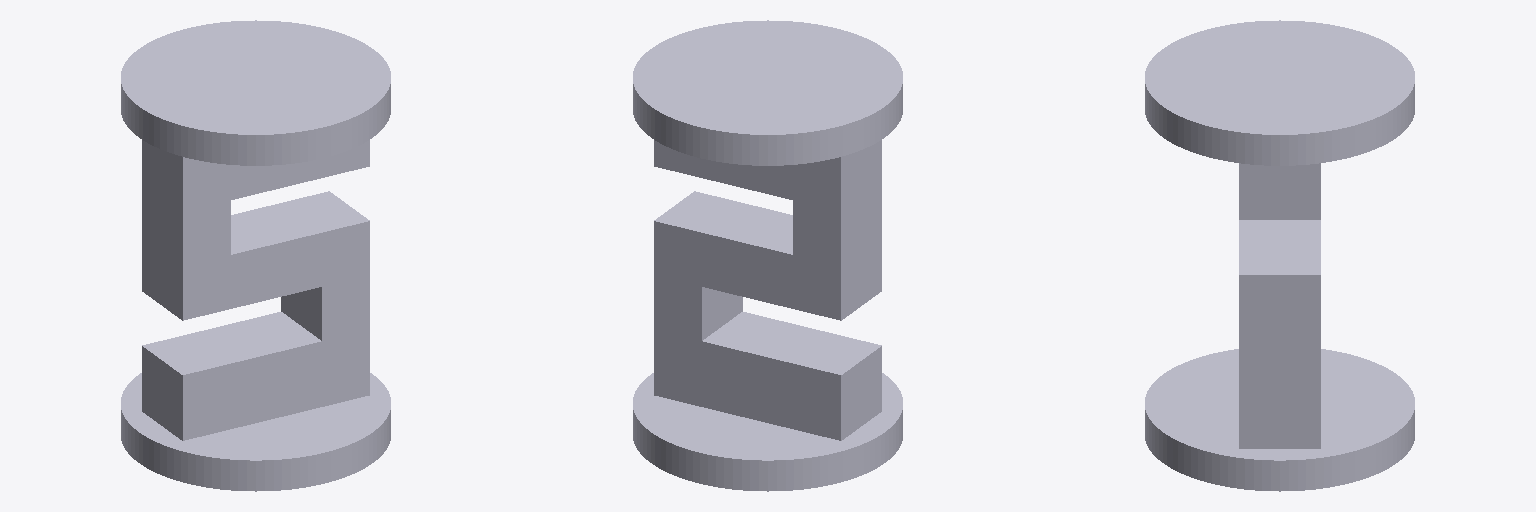
URDF robot description (touch_tool_tcp):
<?xml version="1.0"?>
<!--
  touch_tool_square_20x20.urdf
  TCP de palpação quadrado 20×20 mm para o Touch Pack (Gazebo Classic).

  Geometria da malha (STL, unidade original: mm):
    X: ±45 mm  (largura 90 mm — base de montagem)
    Y: ±45 mm  (profundidade 90 mm)
    Z: -6.5 mm … +108 mm  (comprimento total ≈ 114.5 mm)

  Cadeia de links:
    Link6 → force_sensor_link (Célula de carga 100 kg montada) → touch_tool_link → tcp_link

  Convenção de frames:
    • force_sensor_link / origem: centro do acoplador-robô, assenta plano no
      flange (Link6). Montagem AXIAL da célula CSA/ZL tipo S de 100 kg
      (CelulaDeCarga_100kg_Montagem, gerada por scripts/): acoplador ⌀63,5×8 mm
      + célula S 50,8×19,1×76,2 mm + acoplador ⌀63,5×8 mm — os recuos dos
      acopladores encaixam as faces da célula e alojam o parafuso M12 (sem
      rosca exposta); pilha coaxial a +Z, topo em Z=+92,2 mm.
    • touch_tool_link / origem: topo do acoplador-tool (0, 0, +92,2 mm no frame
      do flange), alinhado ao Link6. O fundo do STL (Z = -6.5 mm na malha) é
      alinhado com +0.0065 m.
    • tcp_link: face de contato quadrada 20×20 mm (ponta do probe), +114.5 mm acima
      da base do tool → TCP em (0, 0, +206,7 mm) no frame do flange (Link6).

  Uso standalone (Gazebo):
    Altere o parent do joint "touch_tool_attach" de "Link6" para "world",
    remova o joint "world_to_base" abaixo e spawn via spawn_entity.py.

  Integração no launch (típico):
    Injete o conteúdo entre <robot>…</robot> no URDF combinado do CR10,
    após a definição de Link6, e remova o bloco <robot name="standalone"> deste
    arquivo (use apenas o corpo interno como fragmento xacro/snippet).
-->
<robot name="touch_tool_tcp">

  <!-- ══════════════════════════════════════════════════════════════════
       ROOT (modo standalone): liga a ferramenta ao world para teste.
       Na integração com o CR10 este bloco é substituído por Link6
       como parent direto do joint "touch_tool_attach".
  ══════════════════════════════════════════════════════════════════ -->
  <link name="world"/>

  <joint name="world_to_base" type="fixed">
    <parent link="world"/>
    <child link="Link6"/>
    <origin xyz="0 0 0" rpy="0 0 0"/>
  </joint>

  <!-- Placeholder Link6 (robô real — substituído pelo CR10 na integração). -->
  <link name="Link6">
    <inertial>
      <mass value="0.001"/>
      <inertia ixx="1e-9" ixy="0.0" ixz="0.0"
               iyy="1e-9" iyz="0.0" izz="1e-9"/>
    </inertial>
  </link>

  <!-- ══════════════════════════════════════════════════════════════════
       CÉLULA DE CARGA 100 kg MONTADA (Link6 → touch_tool)
       Montagem única (CelulaDeCarga_100kg_Montagem.stl, gerada por
       scripts/gen_loadcell_100kg_assembly_stl.py): acoplador-robô + célula
       CSA/ZL tipo S + acoplador-tool, pilha AXIAL (faces da célula encaixadas
       nos recuos dos acopladores, parafuso M12 oculto).
       Mesh (mm): origem no centro do acoplador-robô, face inferior em Z=0,
       coaxial a +Z, topo do acoplador-tool em Z=+92,2.
  ══════════════════════════════════════════════════════════════════ -->
  <link name="force_sensor_link">
    <inertial>
      <origin xyz="0 0 0.046" rpy="0 0 0"/>
      <mass value="0.800"/>
      <inertia ixx="6.9e-4" ixy="0.0" ixz="0.0"
               iyy="8.4e-4" iyz="0.0"
               izz="2.0e-4"/>
    </inertial>
    <visual>
      <origin xyz="0 0 0" rpy="0 0 0"/>
      <geometry>
        <mesh filename="package://touch_pack/meshes/CelulaDeCarga_100kg_Montagem.stl"
              scale="0.001 0.001 0.001"/>
      </geometry>
      <material name="silver">
        <color rgba="0.82 0.82 0.88 1.0"/>
      </material>
    </visual>
    <collision name="col_robot_plate">
      <origin xyz="0 0 0.004" rpy="0 0 0"/>
      <geometry>
        <cylinder radius="0.03175" length="0.008"/>
      </geometry>
    </collision>
    <collision name="col_loadcell_s">
      <origin xyz="0 0 0.0461" rpy="0 0 0"/>
      <geometry>
        <box size="0.0508 0.0191 0.0762"/>
      </geometry>
    </collision>
    <collision name="col_tool_plate">
      <origin xyz="0 0 0.0882" rpy="0 0 0"/>
      <geometry>
        <cylinder radius="0.03175" length="0.008"/>
      </geometry>
    </collision>
  </link>

  <!-- ══════════════════════════════════════════════════════════════════
       CORPO PRINCIPAL DO TCP
  ══════════════════════════════════════════════════════════════════ -->
  <link name="touch_tool_link">

    <!--
      Inércia estimada: alumínio 6061, ≈ 150 g, corpo aproximado como
      caixa uniforme 90×90×114.5 mm:
        Ixx = Iyy = (1/12)·m·(w² + h²) = (1/12)·0.15·(0.009+0.0131) ≈ 2.65e-4 kg·m²
        Izz        = (1/12)·m·(w² + w²) = (1/12)·0.15·0.0162         ≈ 2.03e-4 kg·m²
      CoM no centro geométrico: Z_cm ≈ (6.5 + 114.5/2) mm = 63.75 mm → 0.064 m
    -->
    <inertial>
      <origin xyz="0 0 0.064" rpy="0 0 0"/>
      <mass value="0.150"/>
      <inertia ixx="2.65e-4" ixy="0.0" ixz="0.0"
               iyy="2.65e-4" iyz="0.0"
               izz="2.03e-4"/>
    </inertial>

    <!-- Visual: malha STL (mm → m via scale). Offset +0.0065 m em Z para
         alinhar o fundo do STL (Z_mesh = -6.5 mm) com a origem do link. -->
    <visual>
      <origin xyz="0 0 0.0065" rpy="0 0 0"/>
      <geometry>
        <mesh filename="package://touch_pack/meshes/touch_tool_square_20x20.stl"
              scale="0.001 0.001 0.001"/>
      </geometry>
      <material name="tool_white">
        <color rgba="0.95 0.95 0.95 1.0"/>
      </material>
    </visual>

    <!--
      Colisão simplificada (duas caixas) — mais estável no ODE do Gazebo
      do que a malha completa com 14 822 triângulos.

      col_body  → corpo/base de montagem: cobre Z = 0 … 0.094 m
                  (90×90 mm de largura, acompanha a seção principal).
      col_tip   → haste + face 20×20 mm: cobre Z ≈ 0.087 … 0.125 m
                  (25×25 mm com 1 mm de margem lateral).
    -->
    <collision name="col_body">
      <origin xyz="0 0 0.047" rpy="0 0 0"/>
      <geometry>
        <box size="0.090 0.090 0.094"/>
      </geometry>
    </collision>

    <collision name="col_tip">
      <origin xyz="0 0 0.106" rpy="0 0 0"/>
      <geometry>
        <box size="0.025 0.025 0.038"/>
      </geometry>
    </collision>

  </link>

  <!-- Frame tcp_link na face de contato (ponta do probe 20×20 mm). -->
  <link name="tcp_link"/>

  <!-- ══════════════════════════════════════════════════════════════════
       JUNTAS
       Cadeia e offsets (no frame Link6):
         force_sensor  acoplador-robô plano no flange, pilha coaxial a +Z
         touch_tool    topo do acoplador-tool: +92,2 mm em +Link6_z
         tcp_link      +114.5 mm no eixo do probe → TCP (0, 0, +206,7) mm
  ══════════════════════════════════════════════════════════════════ -->
  <!-- Acoplador-robô assenta plano no flange; montagem coaxial ao Link6. -->
  <joint name="force_sensor_attach" type="fixed">
    <parent link="Link6"/>
    <child link="force_sensor_link"/>
    <origin xyz="0 0 0" rpy="0 0 0"/>
  </joint>

  <!-- Touch tool no topo do acoplador-tool (Z=+92,2 mm), alinhado ao Link6. -->
  <joint name="touch_tool_attach" type="fixed">
    <parent link="force_sensor_link"/>
    <child link="touch_tool_link"/>
    <origin xyz="0 0 0.0922" rpy="0 0 0"/>
  </joint>

  <!-- tcp_link na ponta: 6.5 mm (offset base) + 108 mm (tip) = 114.5 mm. -->
  <joint name="tcp_alias_joint" type="fixed">
    <parent link="touch_tool_link"/>
    <child link="tcp_link"/>
    <origin xyz="0 0 0.1145" rpy="0 0 0"/>
  </joint>

  <!-- ══════════════════════════════════════════════════════════════════
       PROPRIEDADES GAZEBO
  ══════════════════════════════════════════════════════════════════ -->
  <gazebo reference="touch_tool_link">
    <self_collide>false</self_collide>
    <gravity>true</gravity>
    <mu1>0.60</mu1>
    <mu2>0.60</mu2>
    <kp>1.0e5</kp>
    <kd>100.0</kd>
    <maxContacts>4</maxContacts>
    <minDepth>0.0002</minDepth>
    <maxVel>0.05</maxVel>
    <!-- touch_tool → branco -->
    <visual>
      <material>
        <ambient>0.85 0.85 0.85 1</ambient>
        <diffuse>0.95 0.95 0.95 1</diffuse>
        <specular>0.30 0.30 0.30 1</specular>
      </material>
    </visual>
  </gazebo>

  <gazebo reference="Link6">
    <self_collide>false</self_collide>
  </gazebo>

  <gazebo reference="force_sensor_link">
    <self_collide>false</self_collide>
    <gravity>true</gravity>
    <mu1>0.40</mu1>
    <mu2>0.40</mu2>
    <kp>1.0e5</kp>
    <kd>100.0</kd>
    <maxContacts>4</maxContacts>
    <minDepth>0.0002</minDepth>
    <maxVel>0.05</maxVel>
    <!-- célula de carga montada → prateado (specular alto = brilho metálico) -->
    <visual>
      <material>
        <ambient>0.55 0.55 0.58 1</ambient>
        <diffuse>0.82 0.82 0.88 1</diffuse>
        <specular>0.95 0.95 1.00 1</specular>
      </material>
    </visual>
  </gazebo>

</robot>

--- Facts derived from the render (not from the file) ---
Views: 3 orthographic renders of the robot side by side, from view 1: azimuth 30°, elevation 25°; view 2: azimuth 150°, elevation 25°; view 3: azimuth 270°, elevation 25°.
Model touch_tool_tcp with 5 links and 4 joints (4 fixed), rooted at world, posed every joint at zero.
Links seen in each view (by area): view 1: force_sensor_link; view 2: force_sensor_link; view 3: force_sensor_link.
Boxes of the visible links, box(x1,y1,x2,y2) form: force_sensor_link: box(121, 20, 390, 491); force_sensor_link: box(633, 20, 902, 491); force_sensor_link: box(1145, 20, 1414, 491).
Bounding box of the posed robot: 0.0635 × 0.0635 × 0.0922 m (x, y, z).
1 mesh visuals loaded from 2 distinct referenced files (1 binary STL); not drawn: 1 (reference not matched to a file when rendering).
